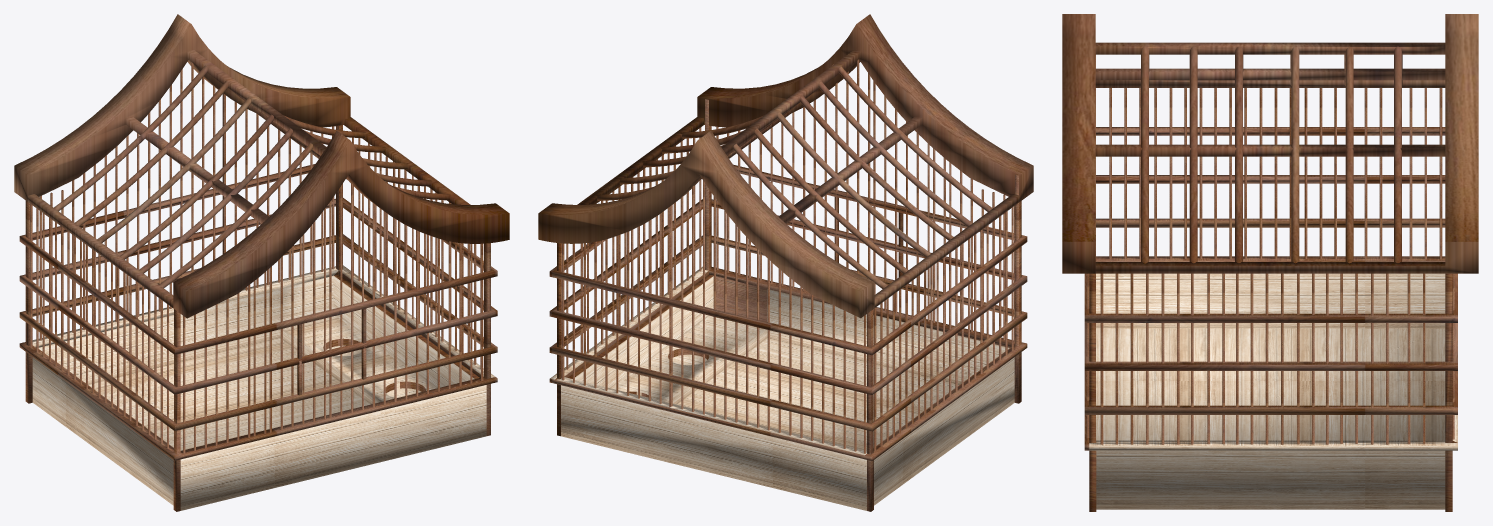
Rendered from cge.obj.
3 views of the same model, side by side, from view 1: azimuth 30°, elevation 25°; view 2: azimuth 150°, elevation 25°; view 3: azimuth 270°, elevation 25° (orthographic). The views are drawn at different scales.
Visible parts, largest first — view 1: Layer0_001, telhado_001; view 2: Layer0_001, telhado_001; view 3: Layer0_001, telhado_001.
Part boxes in pixels (bbox=[...]): Layer0_001: bbox=[19, 62, 497, 511]; telhado_001: bbox=[14, 14, 509, 318]; Layer0_001: bbox=[549, 59, 1027, 511]; telhado_001: bbox=[538, 14, 1033, 318]; Layer0_001: bbox=[1084, 55, 1457, 511]; telhado_001: bbox=[1062, 14, 1478, 273].
Bounding box in the file's own units: 4.54 × 4.52 × 4.17.
Materials: 2 (2 with a texture image).
